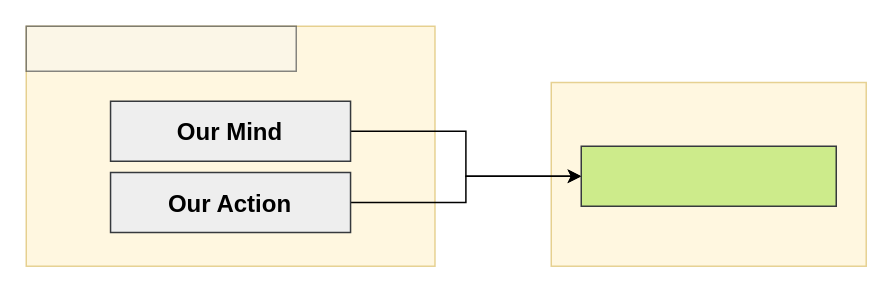
The diagram is 893 pixels wide and 293 high, and some of its shapes have lost their labels. Each missing label, with the centre of its shape:
Design Thinking: (708,175)
Within Our Boundary: (160,48)
